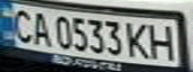0: (51, 12, 72, 51)
3: (103, 18, 127, 56), (84, 17, 106, 55)
5: (66, 15, 90, 53)
A: (27, 9, 54, 47)
C: (6, 6, 39, 44)
H: (145, 21, 178, 61)
K: (124, 19, 154, 60)
